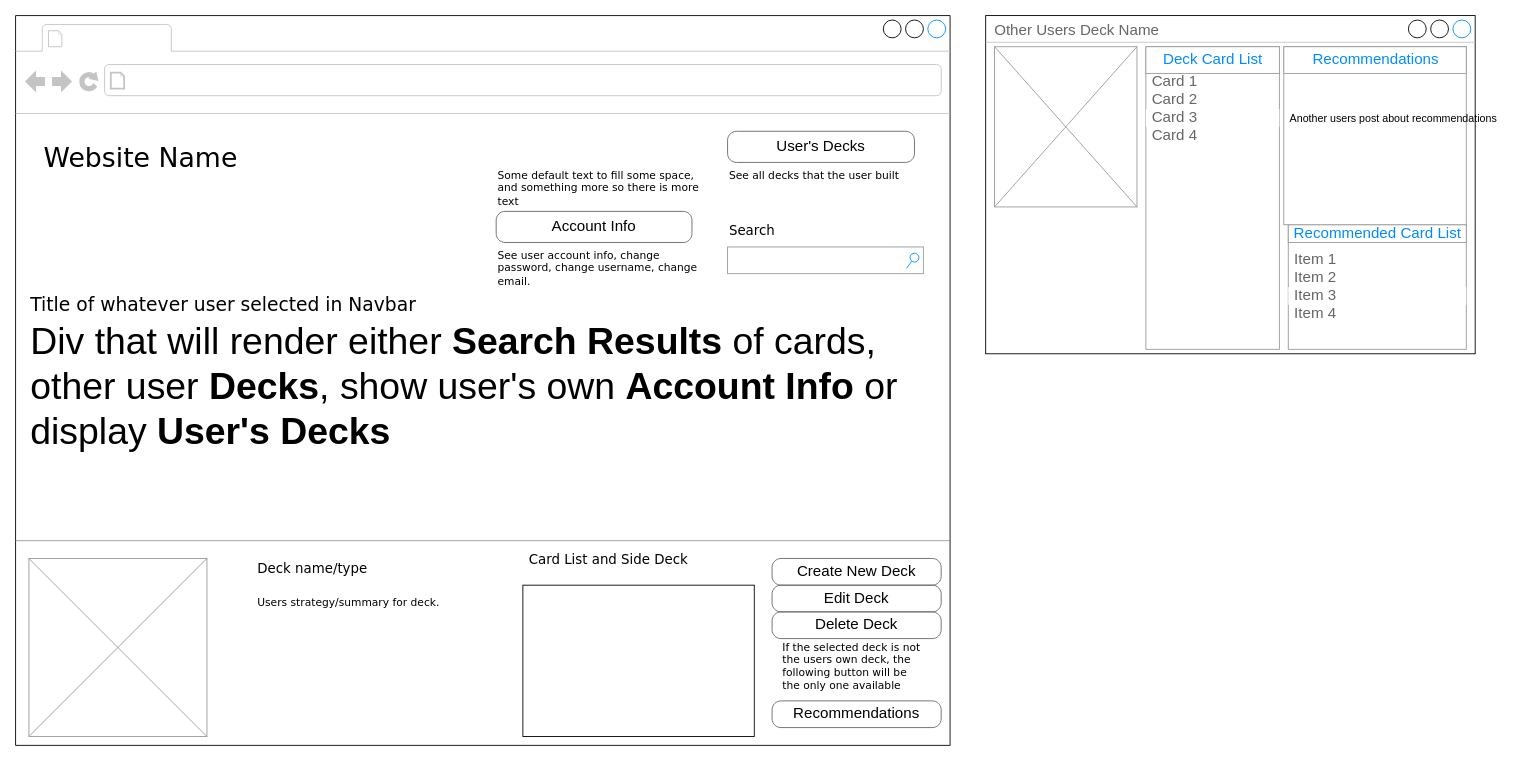
The diagram is 1513 pixels wide and 761 high, and some of its shapes have lost their labels. Here are the shapes that lost their labels. From the top down, the centre of each, then its label:
At pixel 117 37: "Page 1".
At pixel 242 80: "https://www.default.com".
At pixel 825 260: "Search for card(s) or deck build by other users".
At pixel 638 660: "Card 1 Card 2 Card 3 Card 4".
